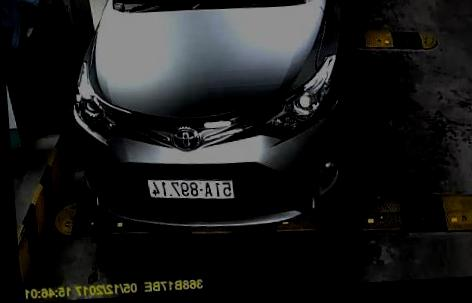License_Plate: (134, 168, 239, 210)
